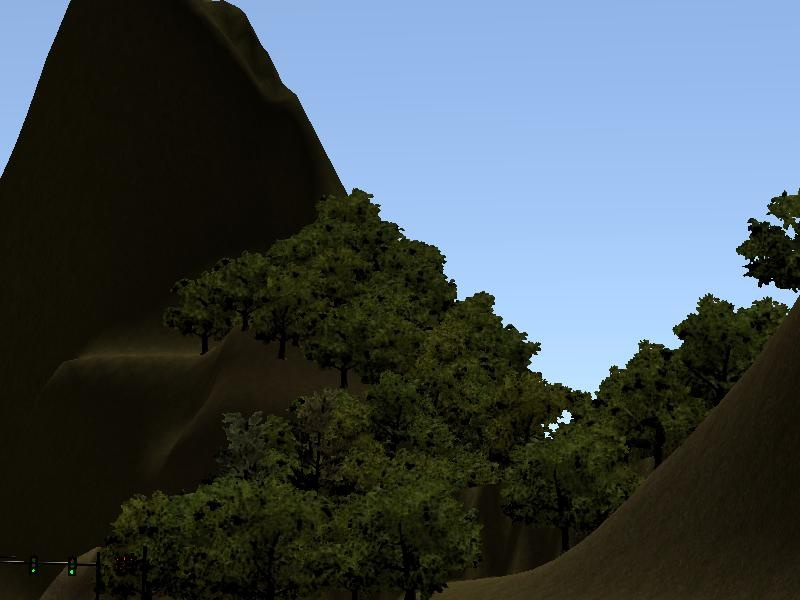GREEN: (21, 549, 45, 581), (64, 550, 82, 583)
